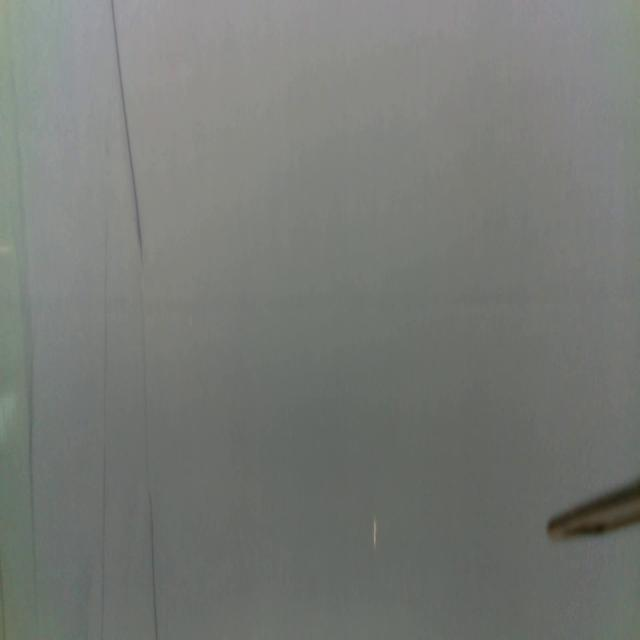crease: (13, 129, 40, 619), (111, 0, 144, 262), (136, 271, 158, 638), (99, 220, 110, 637)
hole: (372, 516, 378, 548)
